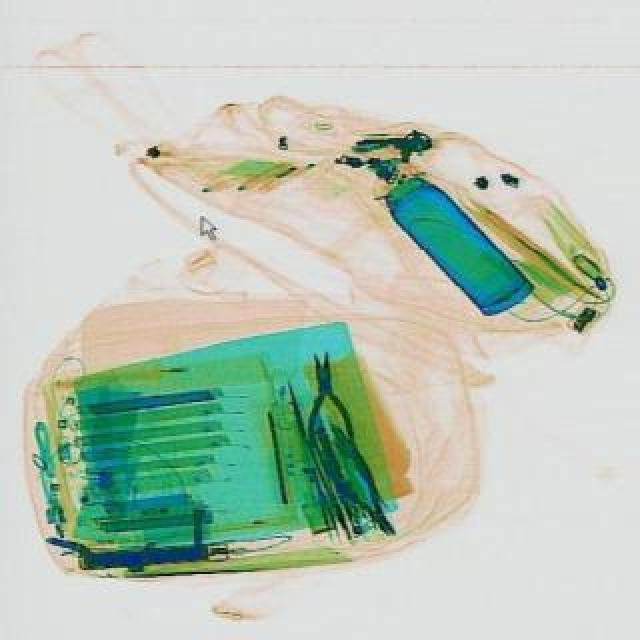wrench: (304, 426, 410, 546), (296, 348, 354, 452)
